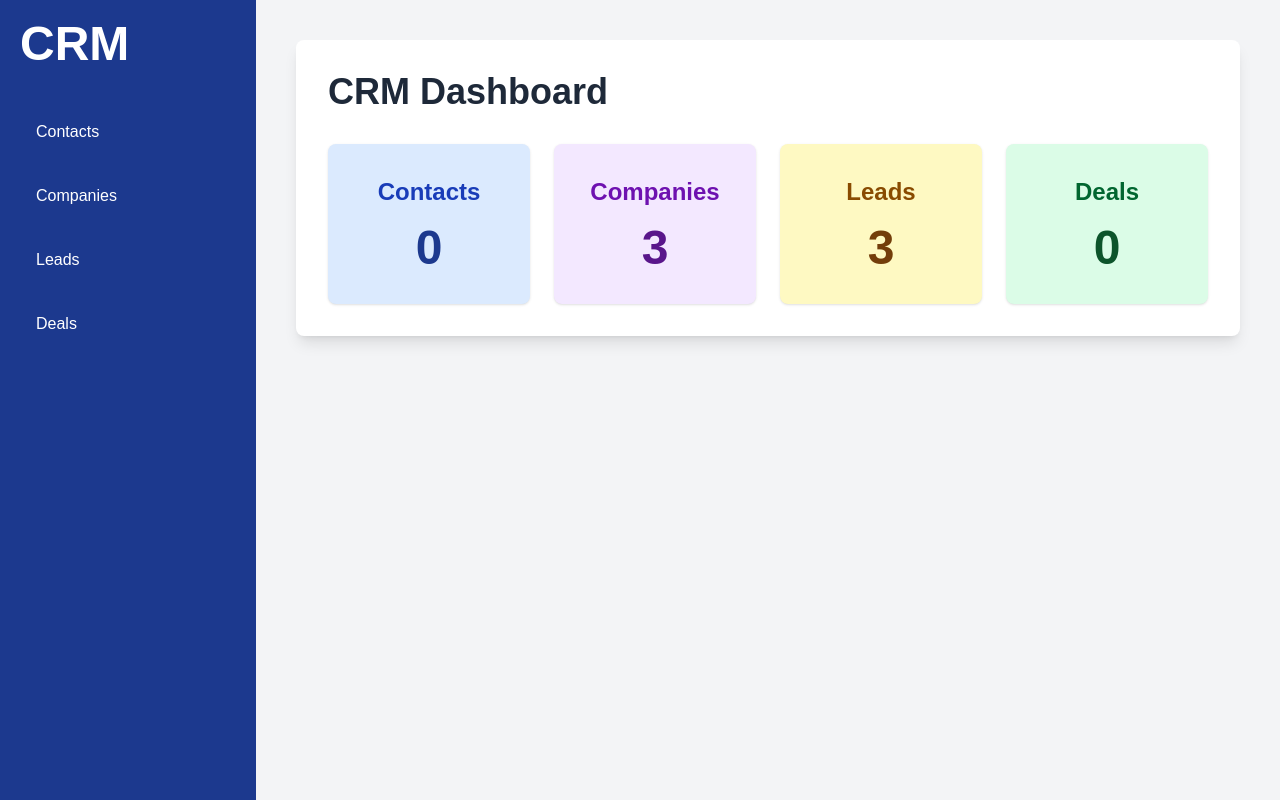
it: Week 8 - Deal Management Automation Tests › TC_01: Create a new deal
Step 1. Click the button "Deals" → (128, 324), box [20, 300, 236, 348]
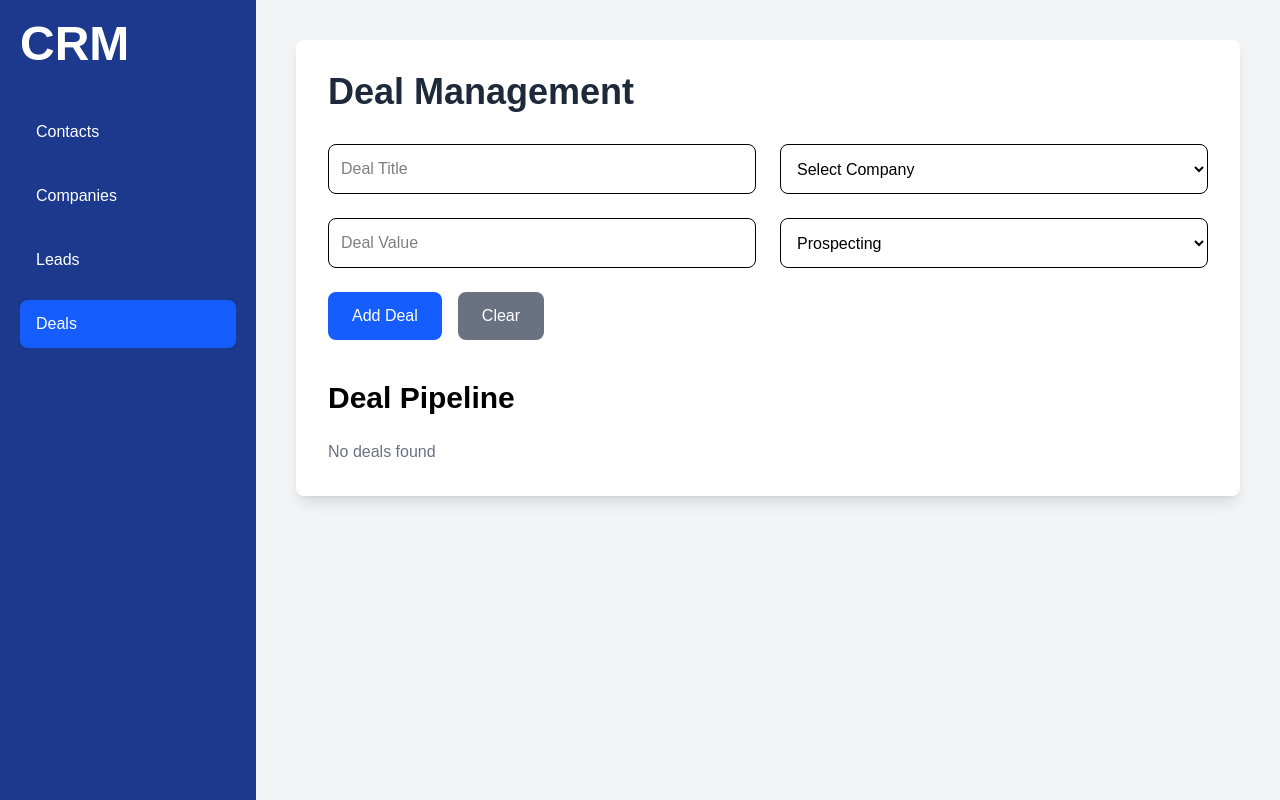
Step 2. Type "Website Development Deal" into the field with placeholder "Deal Title" → (542, 169), box [328, 144, 756, 194]
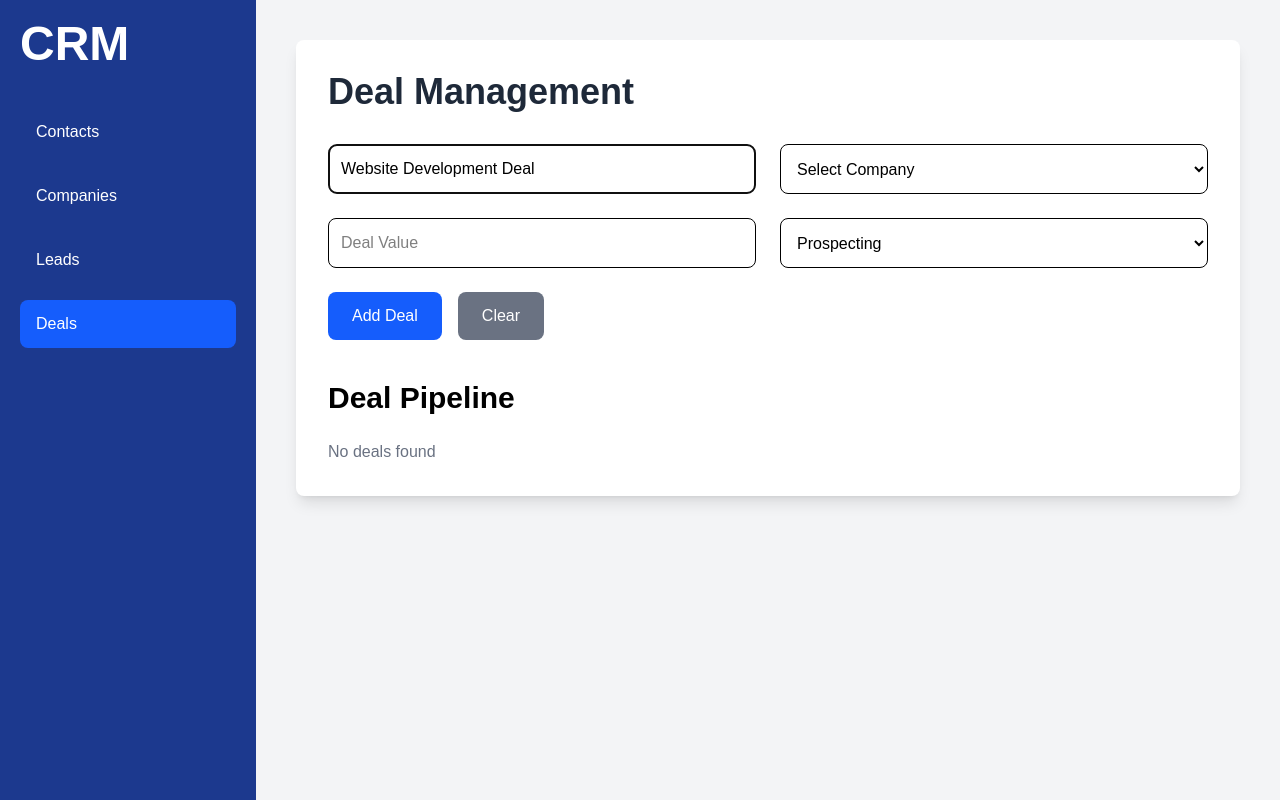
Step 3. Select "1" in the 1st dropdown → (994, 169), box [780, 144, 1208, 194]
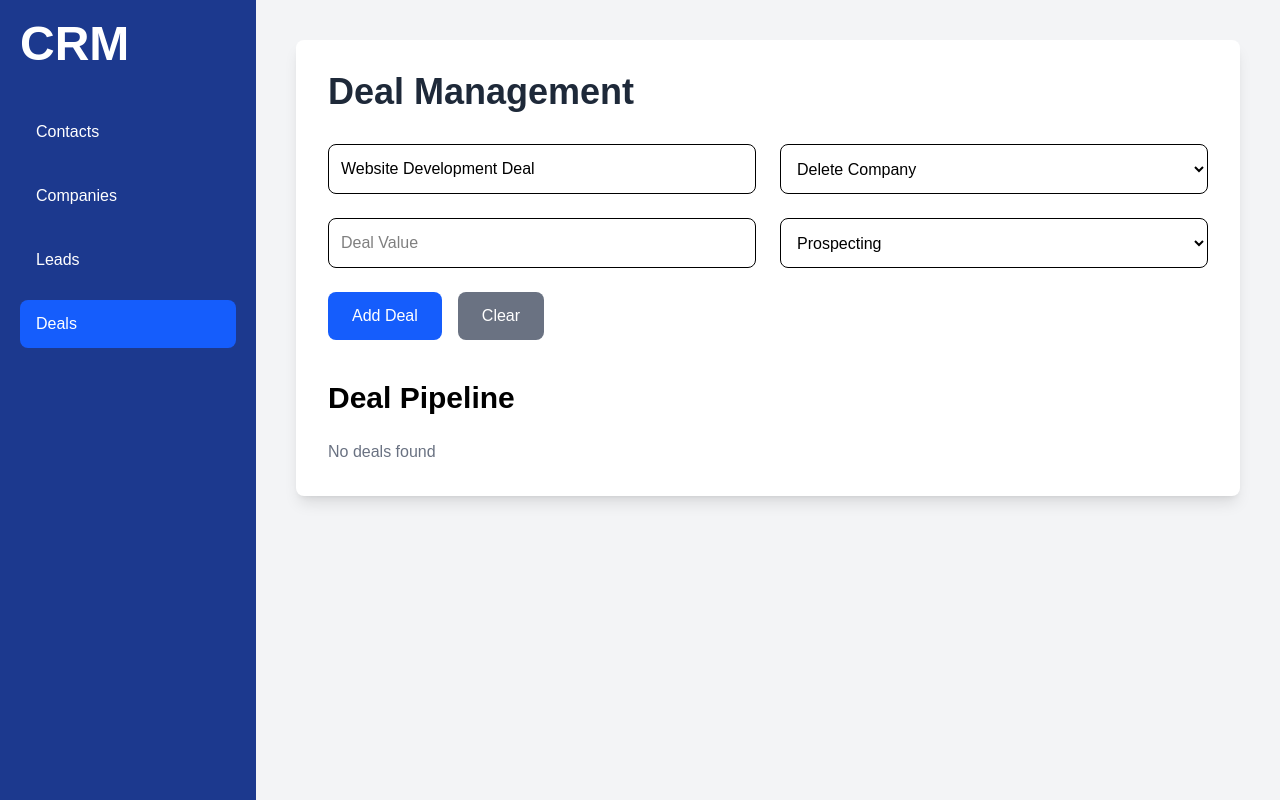
Step 4. Type "5000" into the number field with placeholder "Deal Value" → (542, 243), box [328, 218, 756, 268]
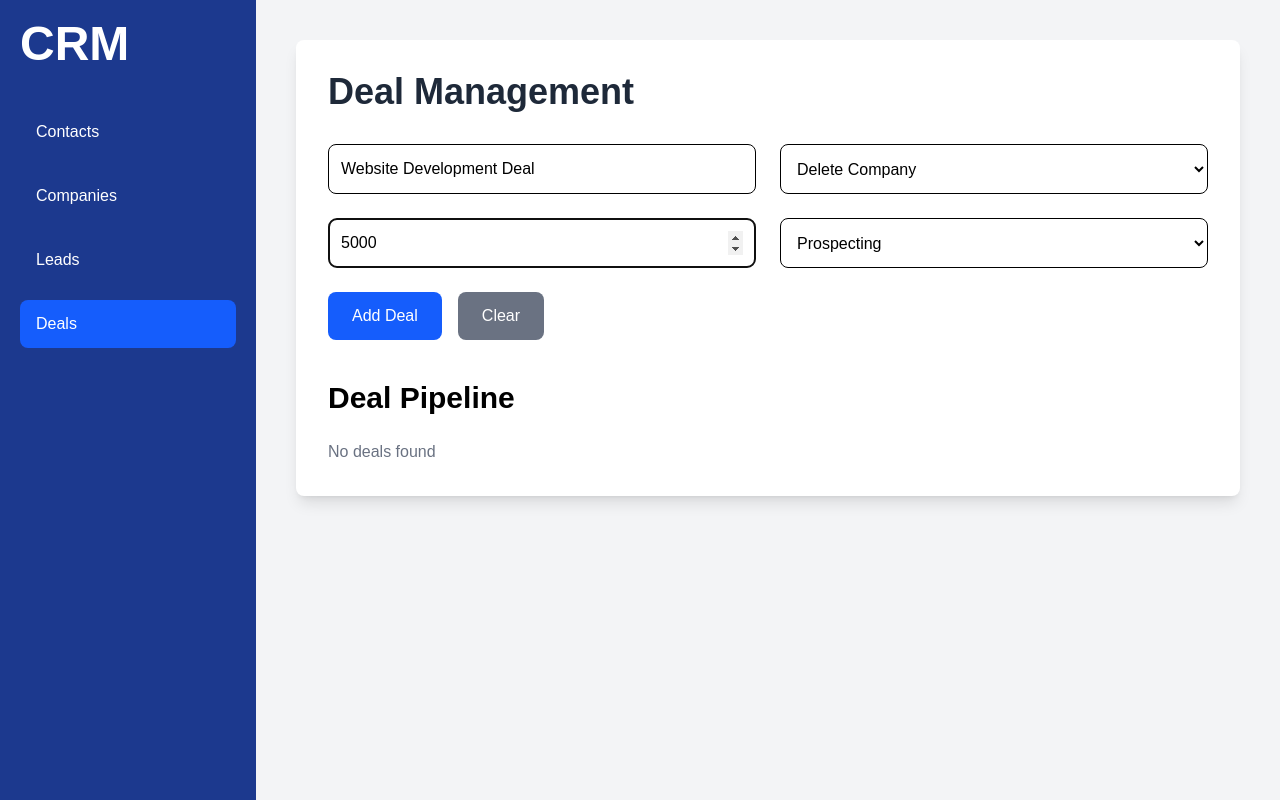
Step 5. Select "Prospecting" in the 2nd dropdown → (994, 243), box [780, 218, 1208, 268]
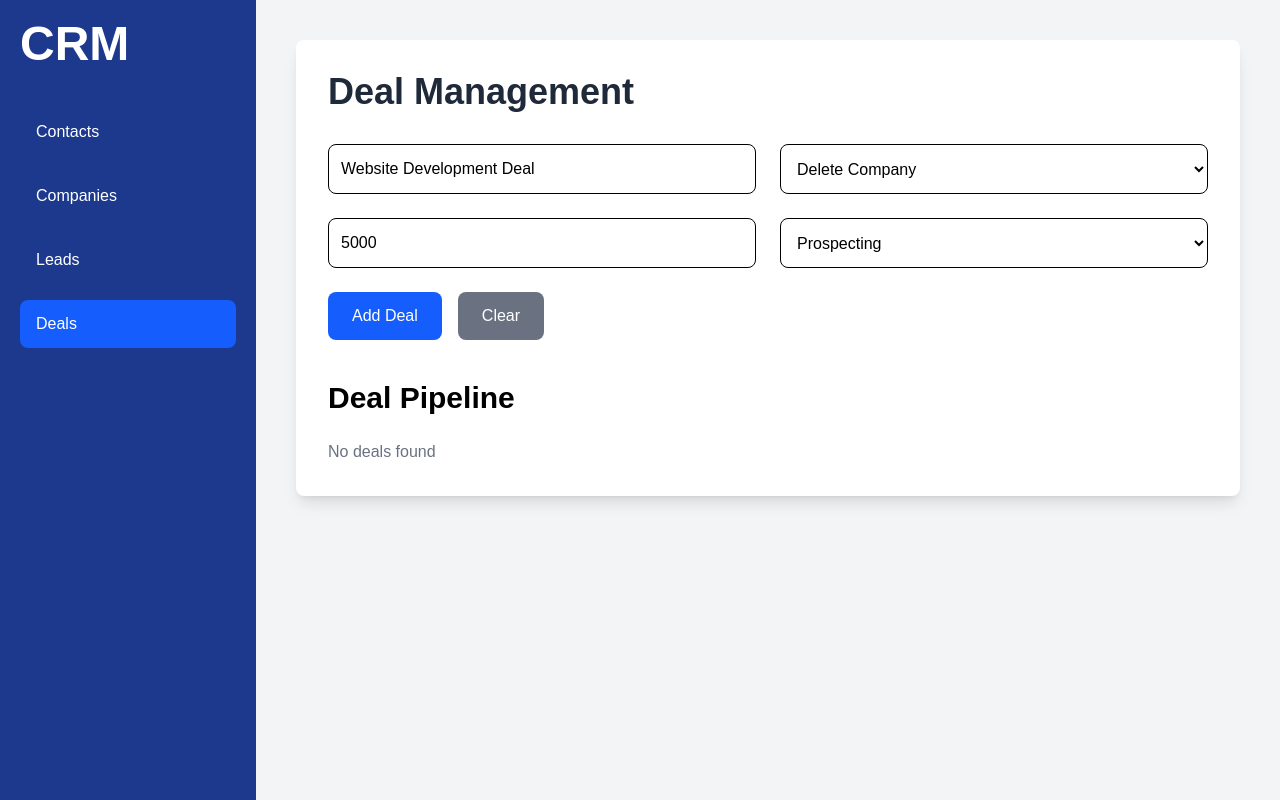
Step 6. Click the button "Add Deal" → (385, 316), box [328, 292, 442, 340]
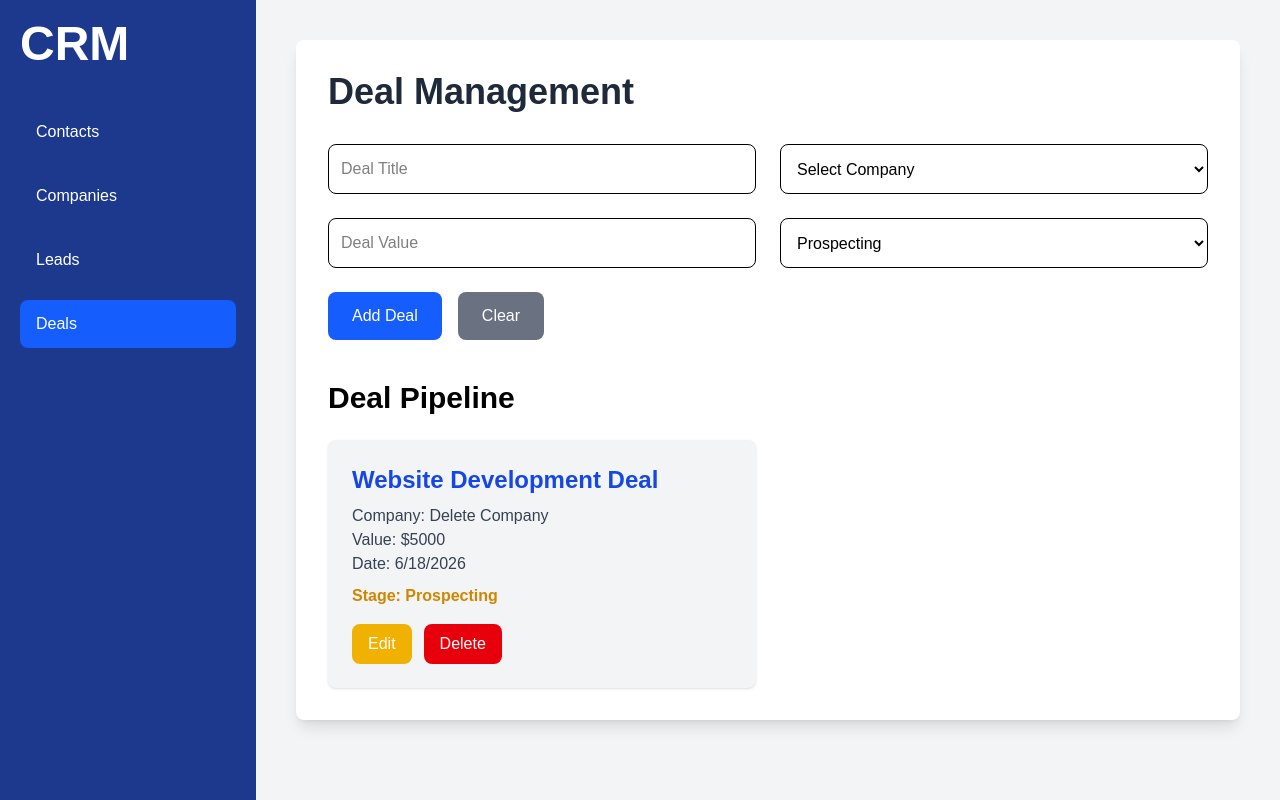
Result: the heading "Website Development Deal" is shown at [352, 466, 658, 493]
